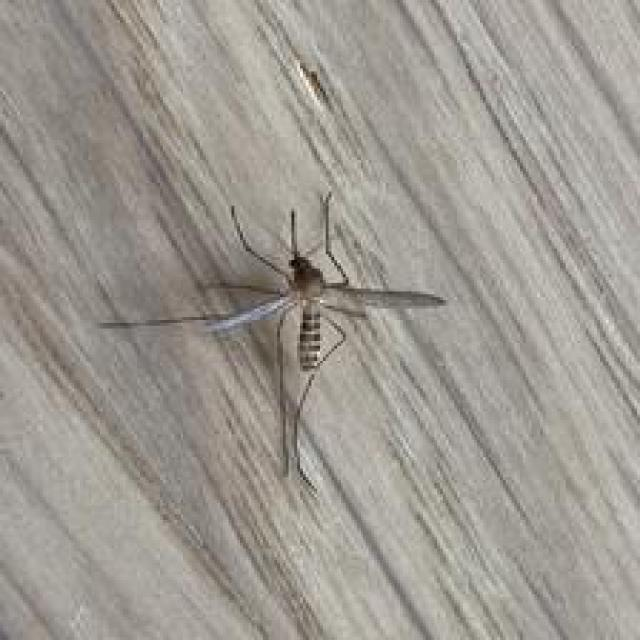Culex: (96, 189, 447, 494)
